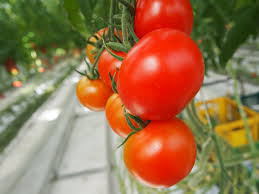tomato: (115, 26, 209, 118), (120, 120, 195, 185), (130, 1, 198, 41), (105, 88, 151, 143), (94, 45, 131, 89), (84, 28, 125, 66), (75, 73, 113, 112)
